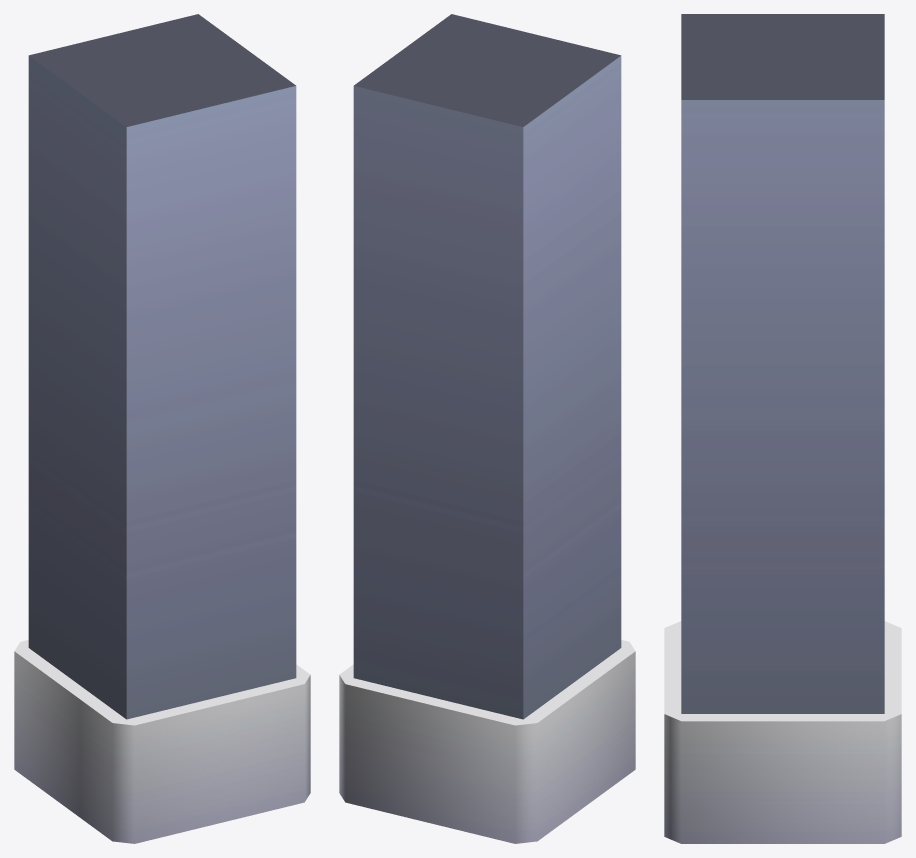
The model's file is column-wide.optimized.glb.
The picture shows the model from 3 angles, left to right: view 1: azimuth 30°, elevation 25°; view 2: azimuth 150°, elevation 25°; view 3: azimuth 270°, elevation 25°; orthographic projection. The views are drawn at different scales.
Visible parts, largest first — view 1: column-wide; view 2: column-wide; view 3: column-wide.
Boxes of the visible parts, x1,y1,x2,y2 form: column-wide: (14, 14, 310, 843); column-wide: (339, 14, 635, 843); column-wide: (664, 14, 901, 843).
Size of the model in its own units: 0.7 by 2.4 by 0.7.
Materials: 1 (1 with a texture image).
